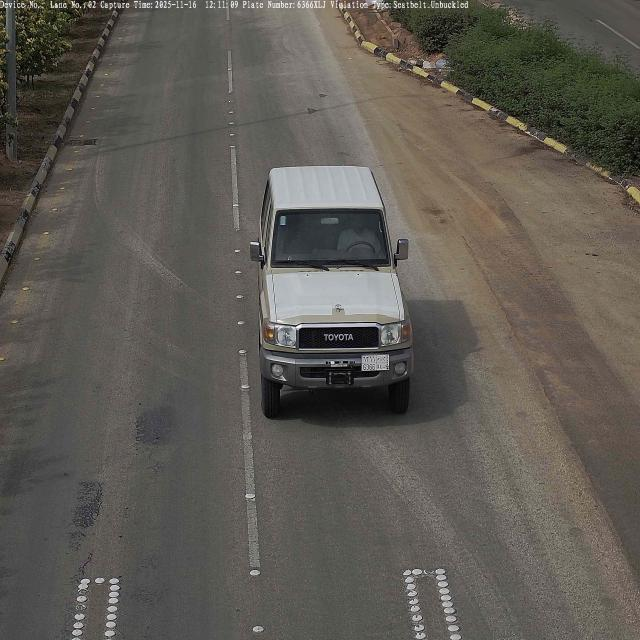person_without_seatbelt: (338, 214, 379, 256)
